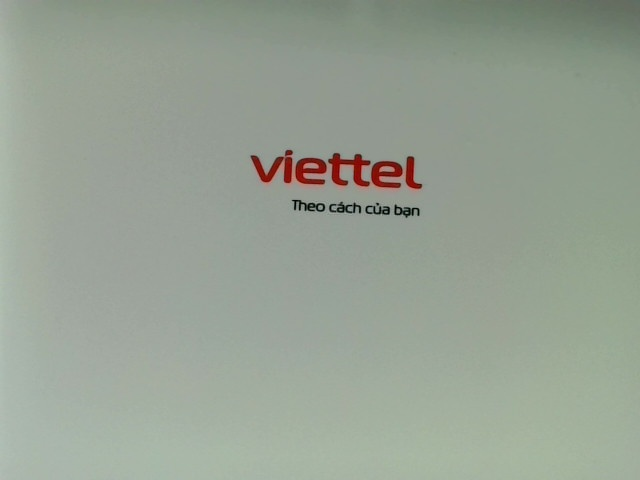AY_Viettel: (245, 148, 425, 218)
